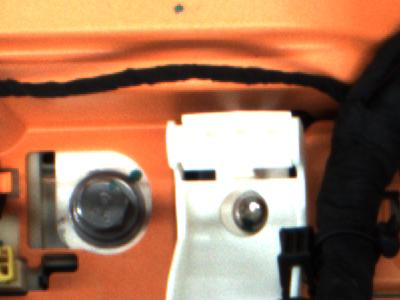nut_b: (66, 164, 154, 249)
